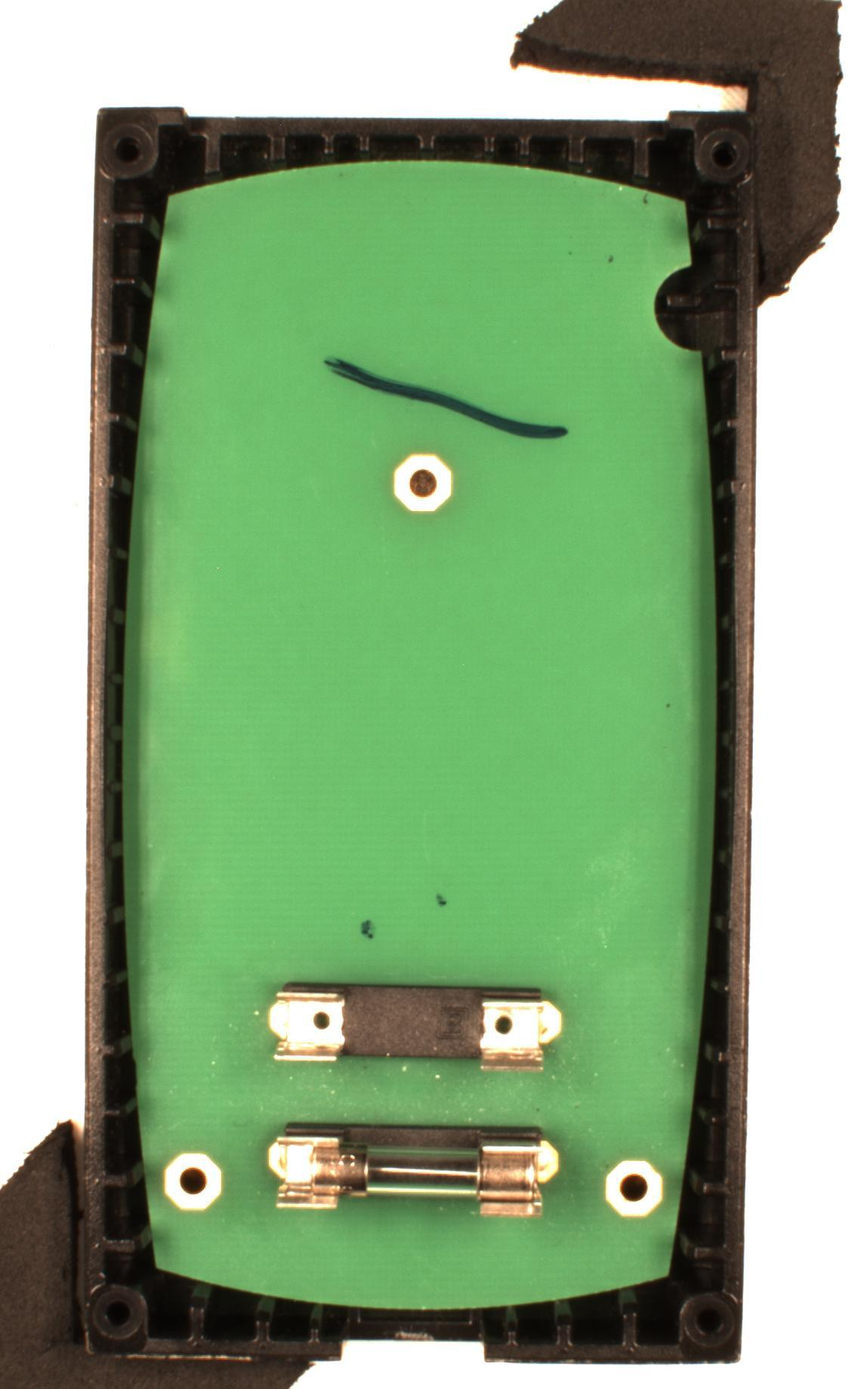Linijsko Ostecene: (320, 351, 571, 443)
Nepostojanje osiguraca: (267, 978, 566, 1073)
Tockasto Ostecenje: (359, 919, 376, 940), (434, 893, 449, 907)
